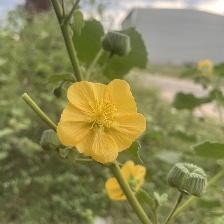indian mallow: (57, 78, 149, 167)
